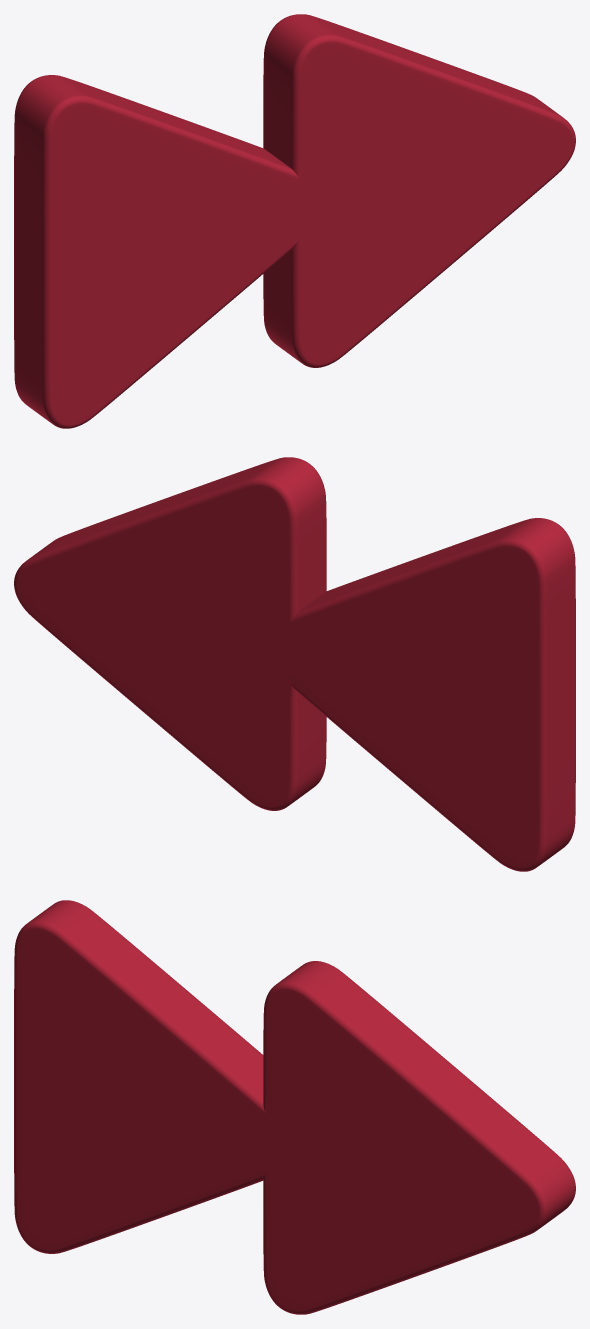
File: forward.fbx
The picture shows the model from 3 angles, top to bottom: view 1: azimuth 30°, elevation 25°; view 2: azimuth 150°, elevation 25°; view 3: azimuth 330°, elevation 25°; orthographic projection.
Visible parts, largest first — view 1: Circle.001; view 2: Circle.001; view 3: Circle.001.
Part boxes in pixels (<box>): Circle.001: <box>14,14,575,428</box>; Circle.001: <box>14,457,575,871</box>; Circle.001: <box>14,900,575,1314</box>.
Bounding box in the file's own units: 194 × 115 × 21.41.
